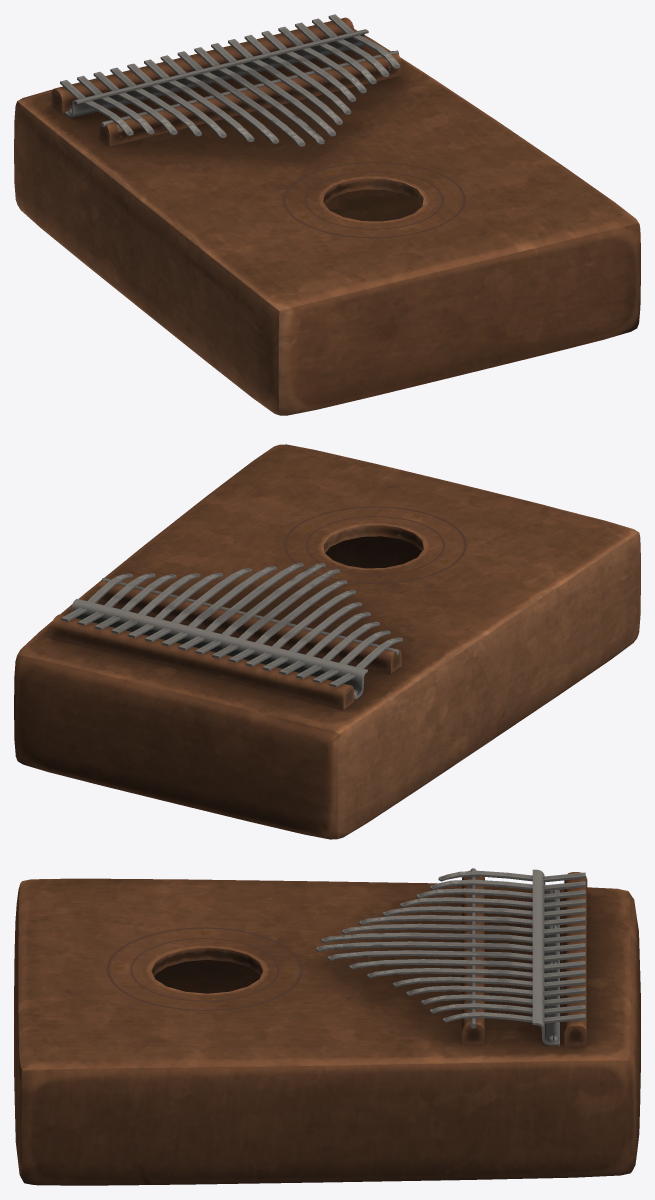
Rendered from Kalimba.glb.
3 views of the same model, one above another, from view 1: azimuth 30°, elevation 25°; view 2: azimuth 150°, elevation 25°; view 3: azimuth 270°, elevation 25° (orthographic). The views are drawn at different scales.
Parts seen in each view (by area): view 1: Kalimba; view 2: Kalimba; view 3: Kalimba.
Boxes of the visible parts, x1=… form: Kalimba: x1=14, y1=14, x2=640, y2=415; Kalimba: x1=14, y1=444, x2=640, y2=839; Kalimba: x1=14, y1=868, x2=640, y2=1185.
Size of the model in its own units: 0.1774 by 0.0661 by 0.2418.
Materials: 1 (1 with a texture image).
